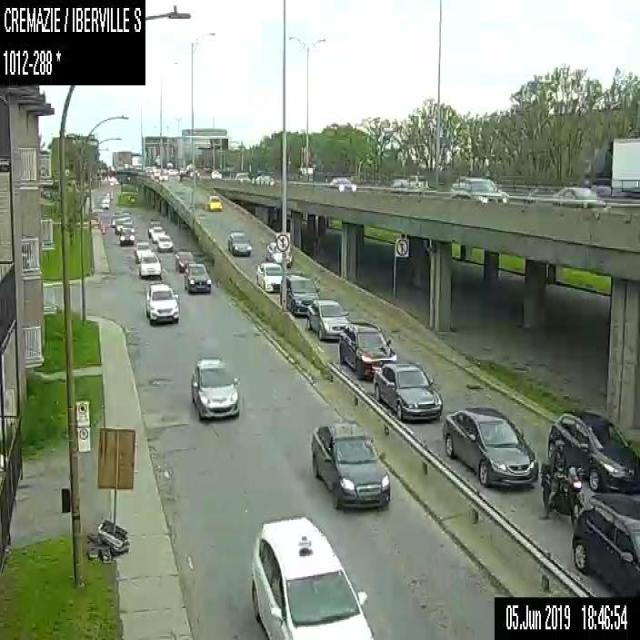vehicle: (247, 513, 375, 639), (443, 405, 538, 486), (547, 410, 639, 492), (310, 421, 391, 511), (571, 492, 639, 596), (373, 359, 442, 422), (581, 135, 639, 198), (539, 438, 584, 518), (338, 319, 397, 379), (189, 355, 240, 420), (448, 173, 508, 204), (306, 297, 348, 340), (279, 272, 319, 316), (145, 283, 178, 325), (551, 184, 604, 207), (183, 263, 210, 293), (256, 261, 282, 292), (266, 241, 292, 266), (226, 230, 251, 255), (138, 250, 160, 276), (328, 174, 357, 192), (174, 250, 193, 272), (134, 240, 152, 262), (406, 172, 428, 190), (156, 233, 173, 251), (391, 176, 410, 192), (251, 172, 274, 184), (178, 167, 199, 180), (119, 228, 134, 246), (207, 194, 222, 211), (151, 225, 164, 242), (234, 171, 251, 184), (148, 220, 160, 237), (110, 212, 123, 226), (115, 217, 126, 233), (121, 222, 134, 233), (210, 169, 222, 178), (158, 170, 168, 180), (122, 215, 132, 224), (154, 168, 160, 178), (144, 165, 152, 172), (102, 195, 109, 202), (122, 211, 130, 217), (101, 201, 108, 207)
